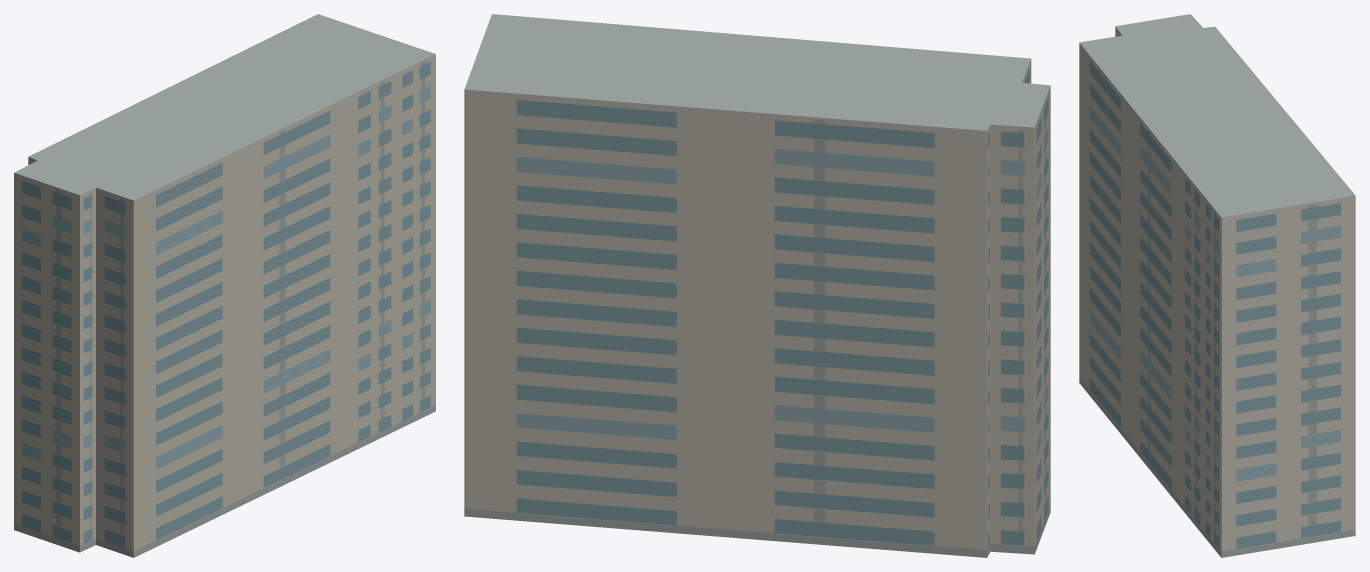
Rendered from residential-59f61108-8551-4984-8c6a-d375c7676f7b.glb.
3 views of the same model, side by side, from view 1: azimuth 30°, elevation 25°; view 2: azimuth 150°, elevation 25°; view 3: azimuth 270°, elevation 25° (orthographic). The views are drawn at different scales.
Parts seen in each view (by area): view 1: residential-59f61108-8551-4984-8c6a-d375c7676f7b.tmp; view 2: residential-59f61108-8551-4984-8c6a-d375c7676f7b.tmp; view 3: residential-59f61108-8551-4984-8c6a-d375c7676f7b.tmp.
Boxes of the visible parts, x1,y1,x2,y2 form: residential-59f61108-8551-4984-8c6a-d375c7676f7b.tmp: (14, 14, 435, 557); residential-59f61108-8551-4984-8c6a-d375c7676f7b.tmp: (464, 14, 1050, 557); residential-59f61108-8551-4984-8c6a-d375c7676f7b.tmp: (1079, 14, 1355, 557).
Bounding box in the file's own units: 62.86 × 49 × 36.08.
